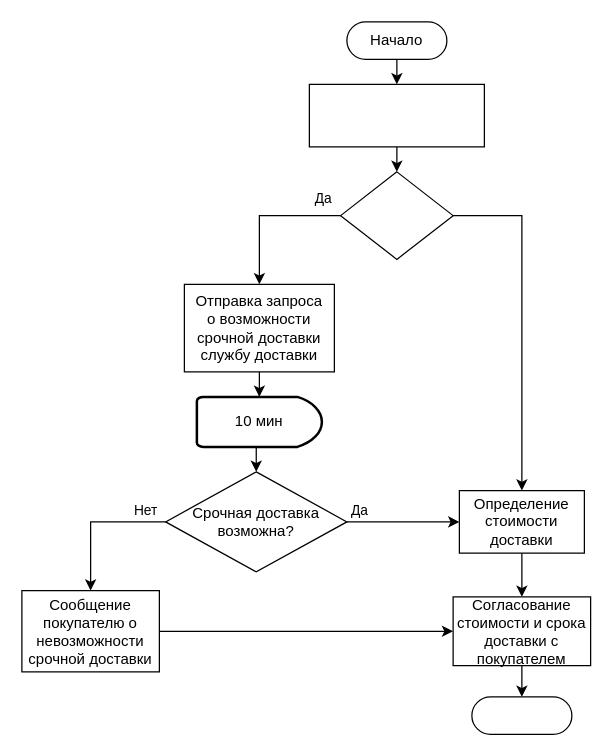
Image size: 613x756. Some labels were removed from this diagram. Each missing label, with the box of its shape:
Доставка срочная?: (339, 171, 453, 259)
Конец: (471, 696, 572, 734)
Поступила заявка от поку пателя на доставку заказа: (308, 83, 484, 147)
